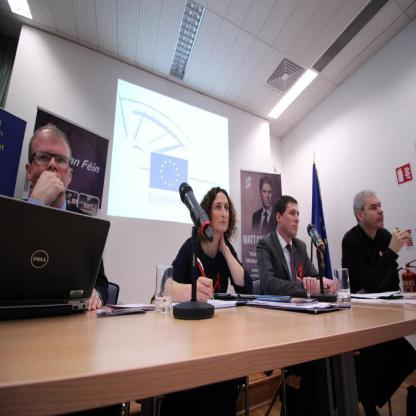board: (0, 193, 110, 320), (398, 259, 416, 293)
